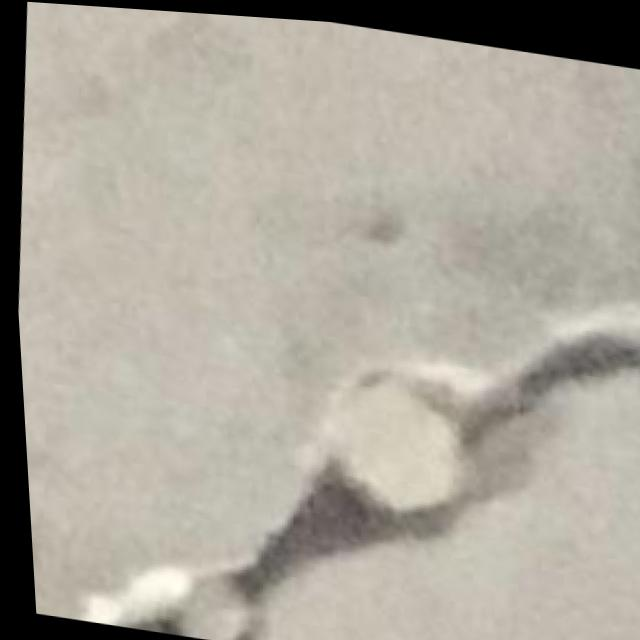Crack: (48, 217, 640, 640)
